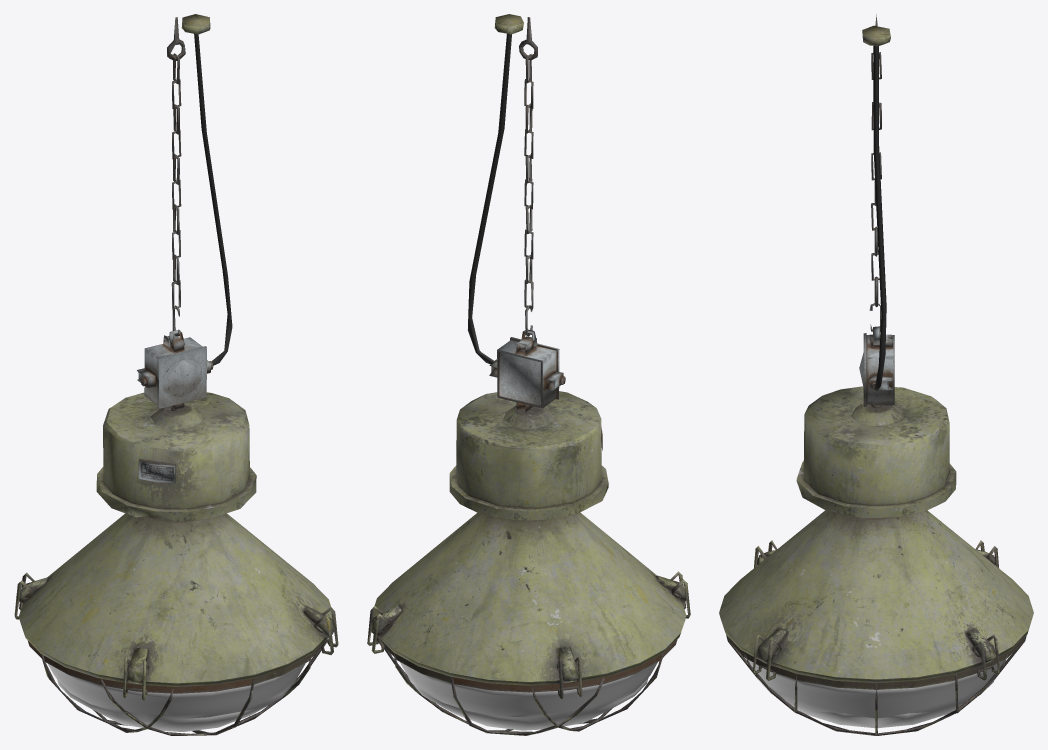
File: IndustrialHangingLamp.fbx
The picture shows the model from 3 angles, left to right: view 1: azimuth 30°, elevation 25°; view 2: azimuth 150°, elevation 25°; view 3: azimuth 270°, elevation 25°; orthographic projection.
Visible parts, largest first — view 1: hanging_industrial_lamp; view 2: hanging_industrial_lamp; view 3: hanging_industrial_lamp.
Boxes of the visible parts, <box> form: hanging_industrial_lamp: <box>14,14,338,735</box>; hanging_industrial_lamp: <box>367,14,690,735</box>; hanging_industrial_lamp: <box>719,14,1033,735</box>.
Size of the model in its own units: 54.96 by 136 by 54.96.
